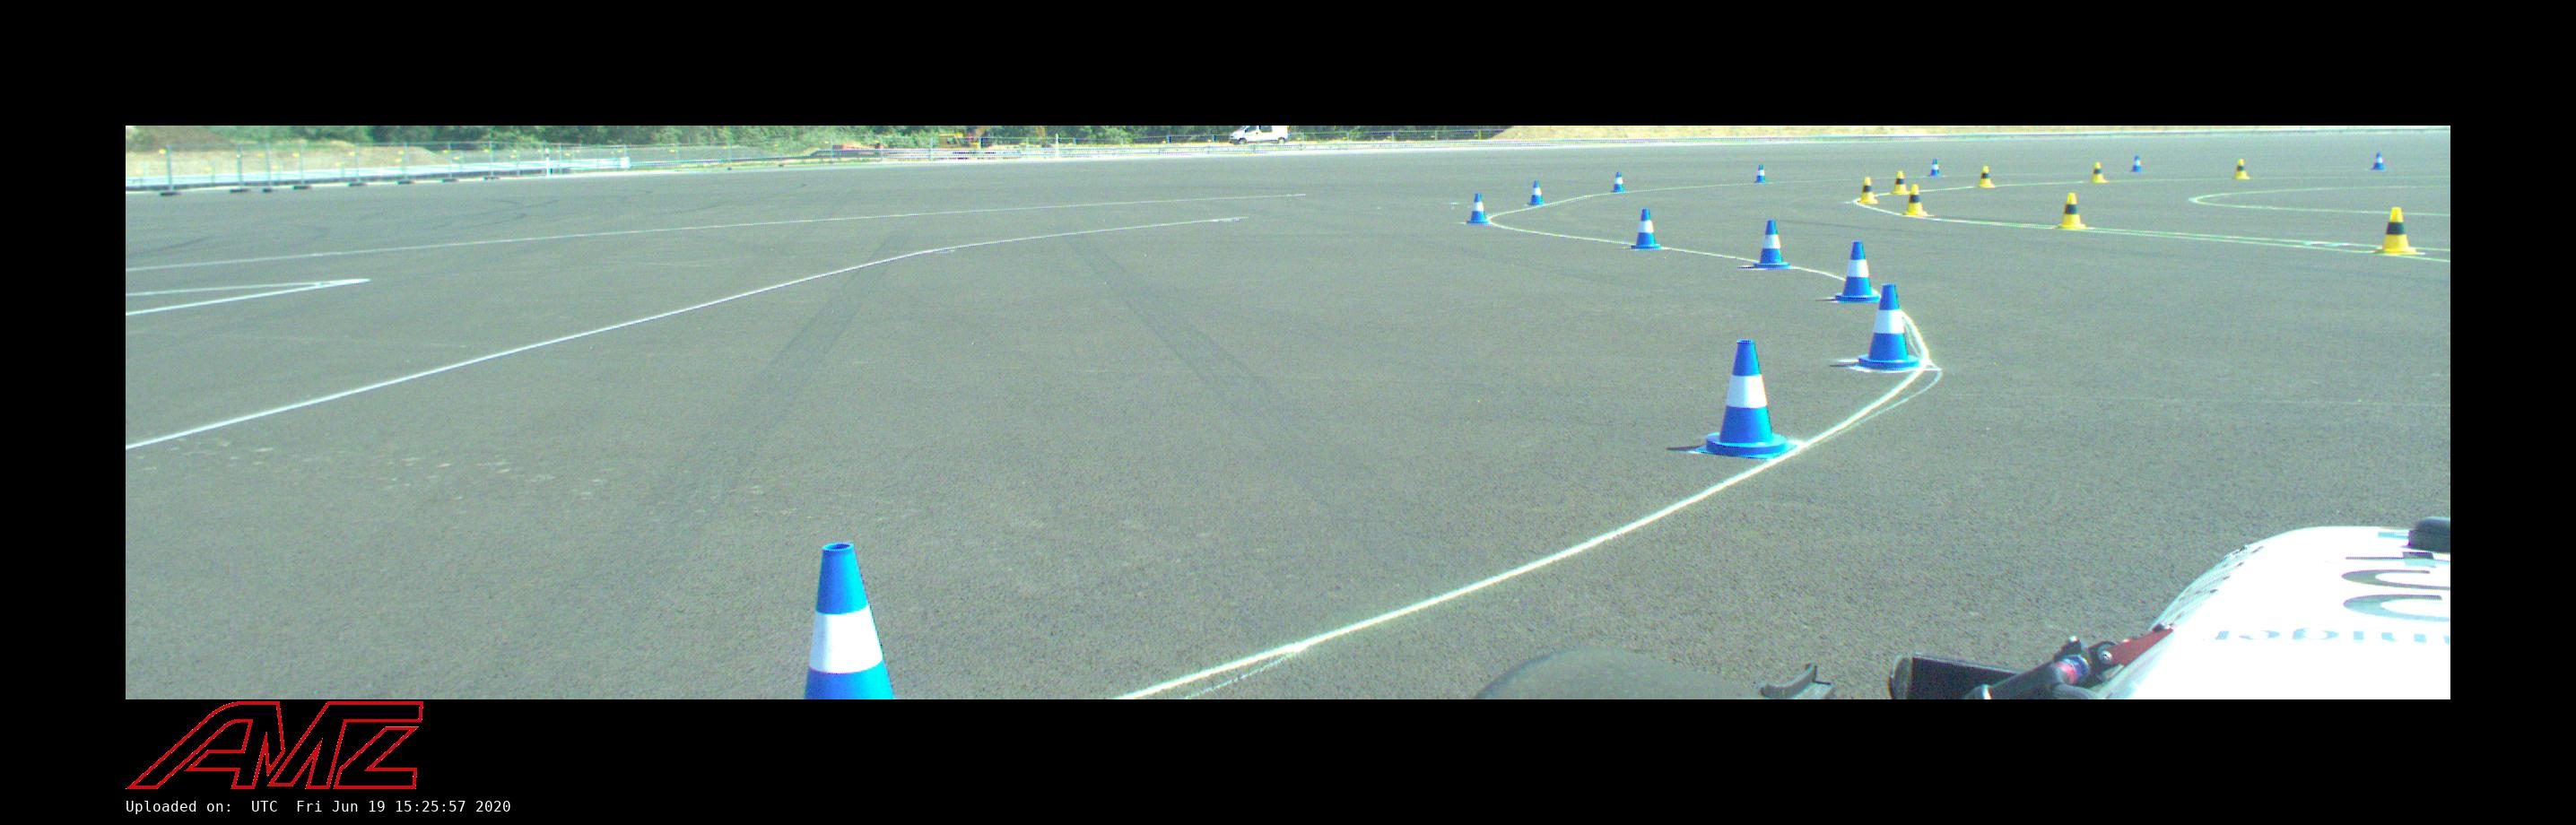blue_cone: (805, 542, 899, 700), (1694, 340, 1797, 459), (1855, 284, 1921, 368), (1832, 242, 1879, 301), (1750, 220, 1792, 268), (1631, 209, 1661, 250), (1467, 192, 1492, 224), (1528, 181, 1546, 204), (2369, 153, 2387, 169), (1612, 173, 1626, 192), (2129, 154, 2144, 173), (1753, 164, 1768, 182), (1929, 159, 1940, 176)
yellow_cone: (2374, 207, 2418, 253), (2055, 192, 2090, 228), (1904, 184, 1929, 217), (1856, 176, 1878, 202), (1889, 171, 1909, 194), (1976, 164, 1994, 187), (2231, 159, 2251, 179), (2090, 163, 2106, 182)
